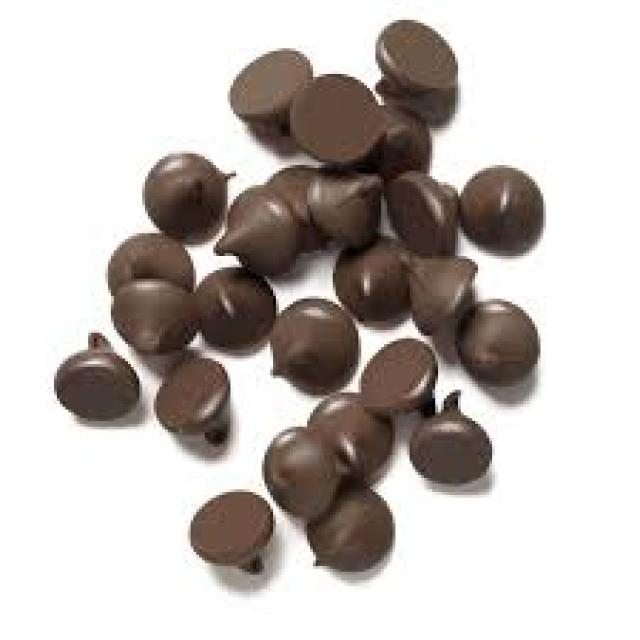Chocolate: (54, 18, 548, 578)
